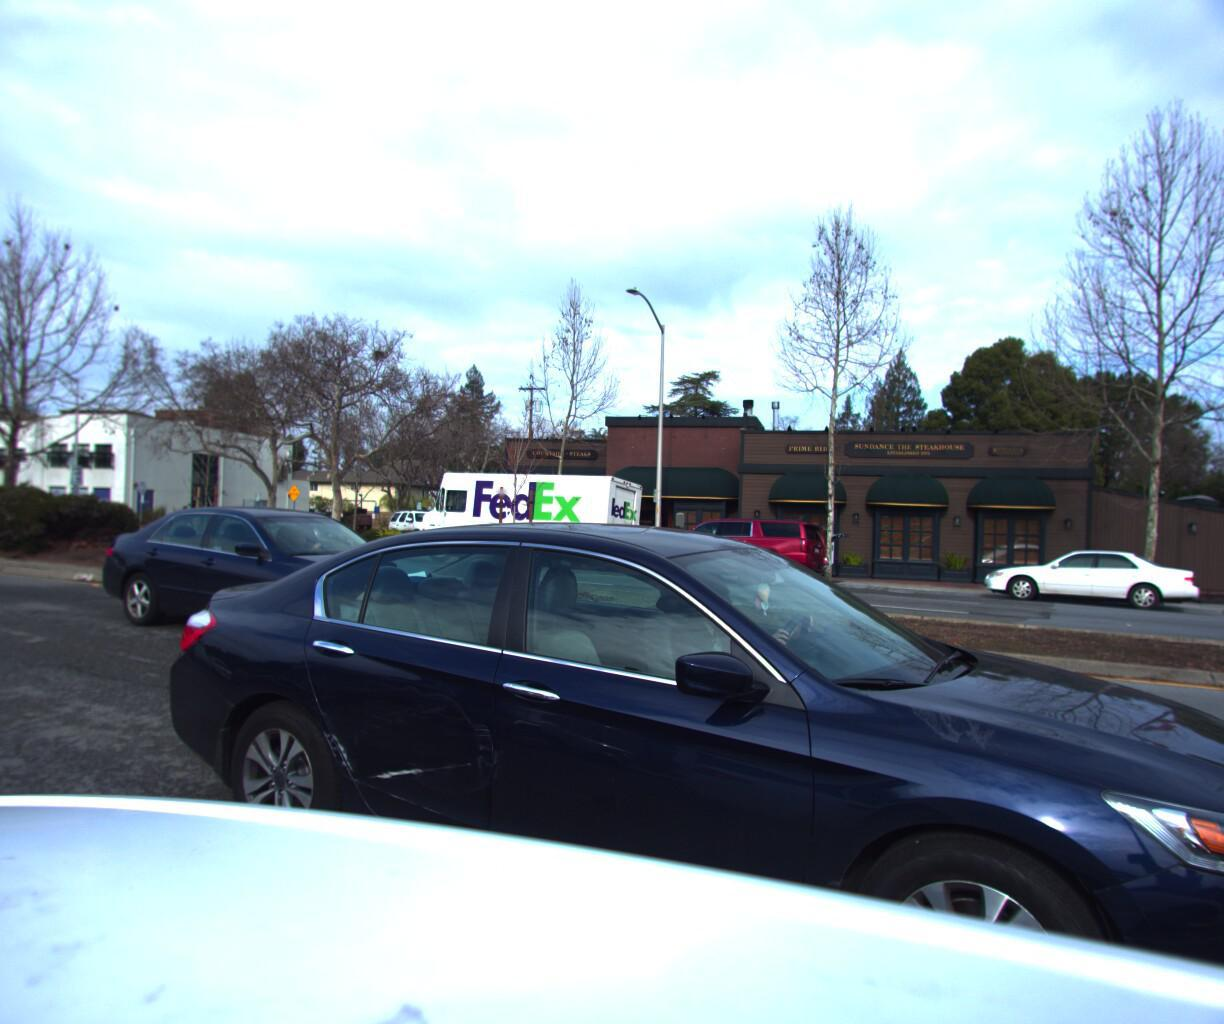car: (106, 508, 1224, 1024), (91, 498, 484, 658), (635, 509, 862, 585), (983, 539, 1206, 611), (378, 501, 463, 541)
truck: (409, 464, 655, 570)
